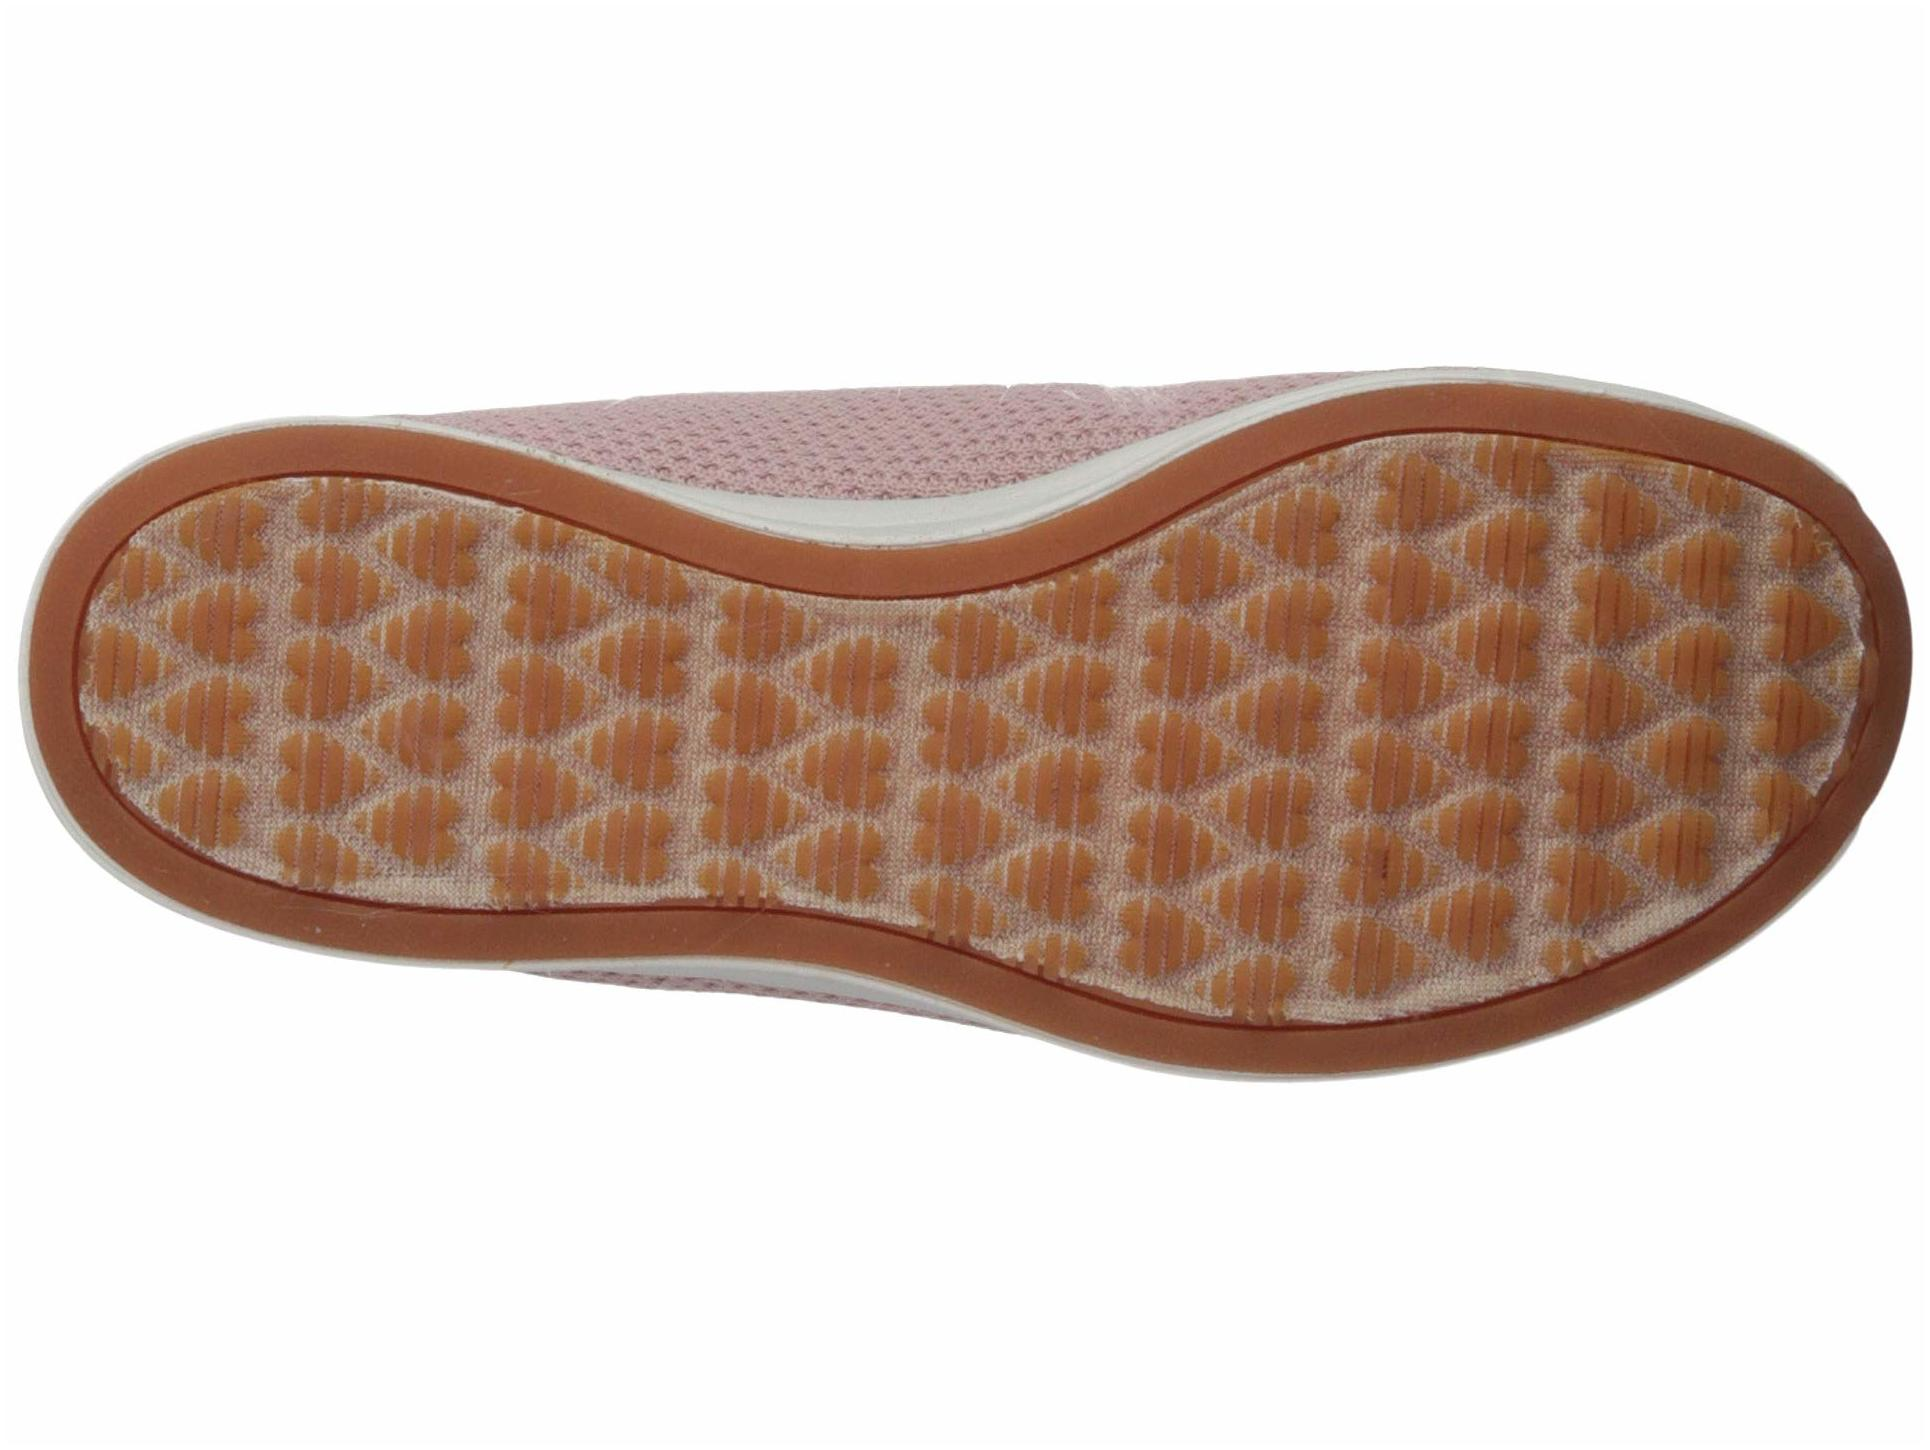chevron: (1254, 484, 1634, 949), (134, 515, 503, 877), (954, 602, 1147, 806), (1312, 516, 1516, 685), (515, 573, 708, 749)
